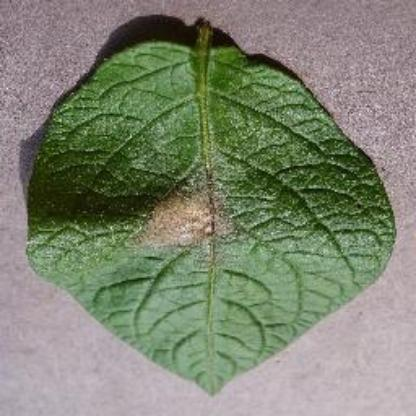Late-Blight: (20, 18, 398, 398)
